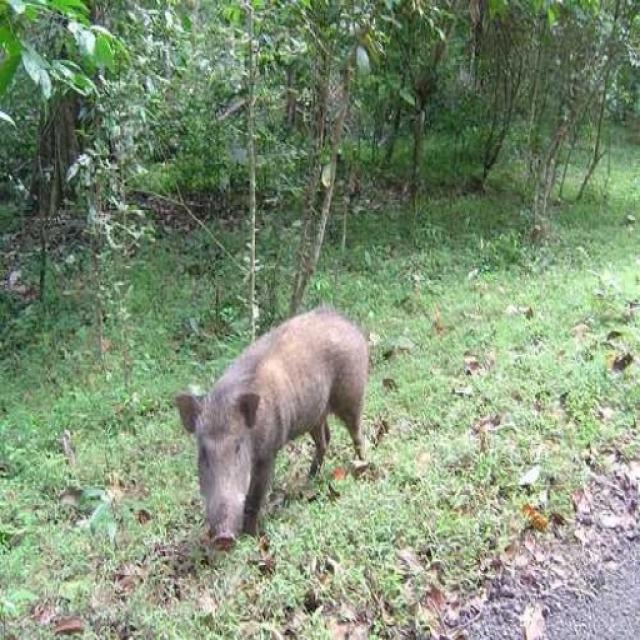pig: (143, 291, 405, 554)
